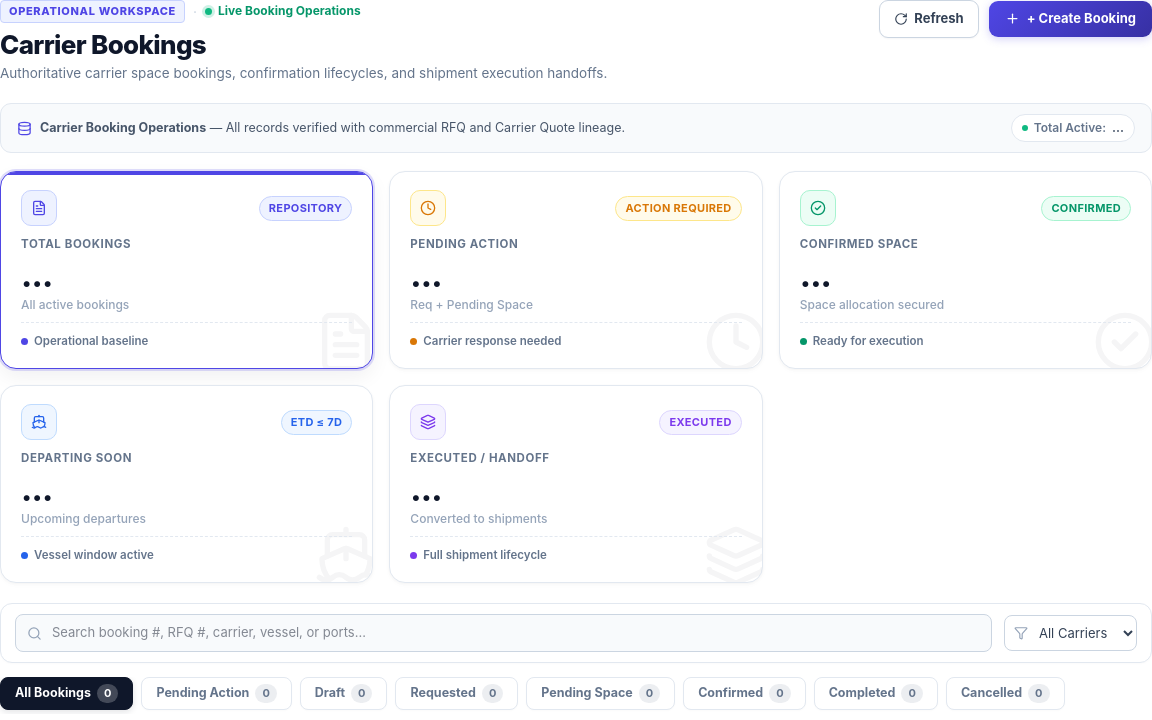
BookingsPage Component › opens create booking modal and displays eligible RFQs
Expected: the text "+ Create Booking" is shown, [1027,9,1136,28]
Click the button "+ Create Booking": click(1070, 19) [989,1,1151,36]
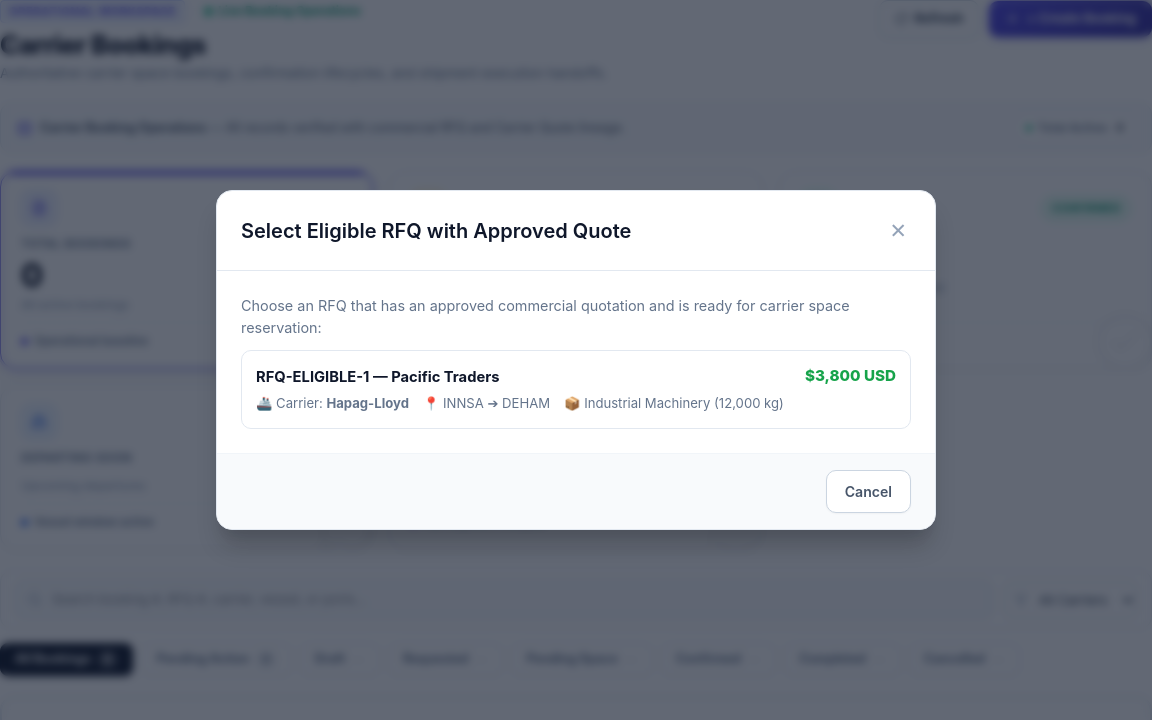
Expected: the heading "Select Eligible RFQ with Approved Quote" is shown, [241,216,631,246]
Expected: the text "RFQ-ELIGIBLE-1 — Pacific Traders" is shown, [256,366,499,388]
